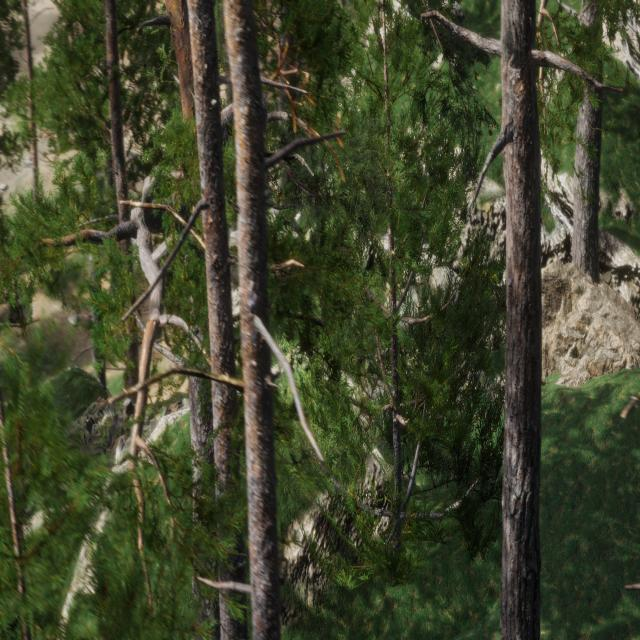Human: (294, 280, 320, 371)
